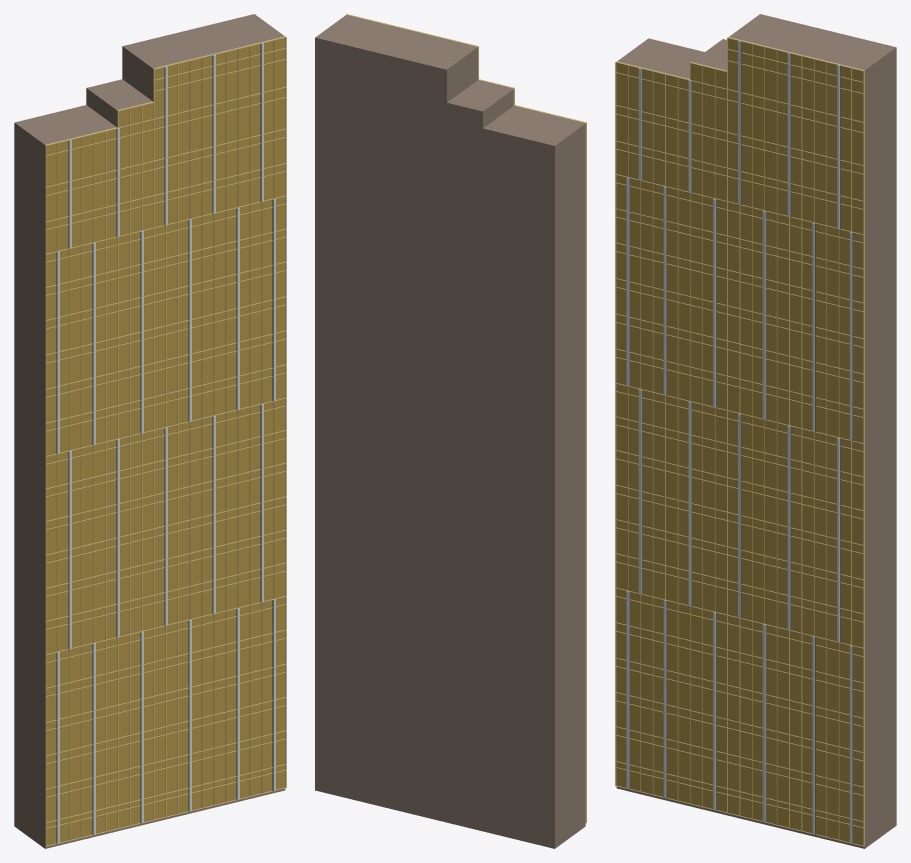
File: light.glb
3 renders of one model, left to right at view 1: azimuth 30°, elevation 25°; view 2: azimuth 150°, elevation 25°; view 3: azimuth 330°, elevation 25°, orthographic. The views are drawn at different scales.
Parts seen in each view (by area): view 1: F_closed_panel_col00_interval00, F_fine_vertical_00_left, HOLD_closed_support_mass, F_silver_strip_0_0, F_silver_backing_0_0; view 2: HOLD_closed_support_mass, F_fine_vertical_00_left; view 3: F_closed_panel_col00_interval00, F_fine_vertical_00_left, HOLD_closed_support_mass, F_silver_strip_0_0, F_silver_backing_0_0.
Part boxes in pixels (box(x1,y1,x2,y2)): F_closed_panel_col00_interval00: box(46, 38, 285, 845); F_fine_vertical_00_left: box(45, 36, 286, 846); HOLD_closed_support_mass: box(14, 14, 285, 848); F_silver_strip_0_0: box(57, 43, 275, 843); F_silver_backing_0_0: box(56, 44, 273, 843); HOLD_closed_support_mass: box(315, 15, 585, 848); F_fine_vertical_00_left: box(346, 14, 586, 823); F_closed_panel_col00_interval00: box(616, 38, 863, 845); F_fine_vertical_00_left: box(615, 37, 864, 846); HOLD_closed_support_mass: box(616, 14, 896, 848); F_silver_strip_0_0: box(626, 41, 852, 843); F_silver_backing_0_0: box(629, 42, 853, 843).
Bounding box in the file's own units: 36.05 × 108 × 8.42.
